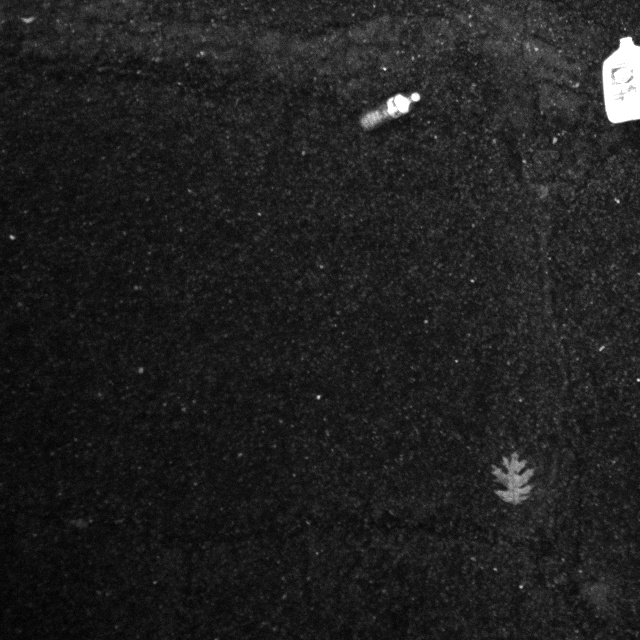bottle: (350, 81, 423, 138)
